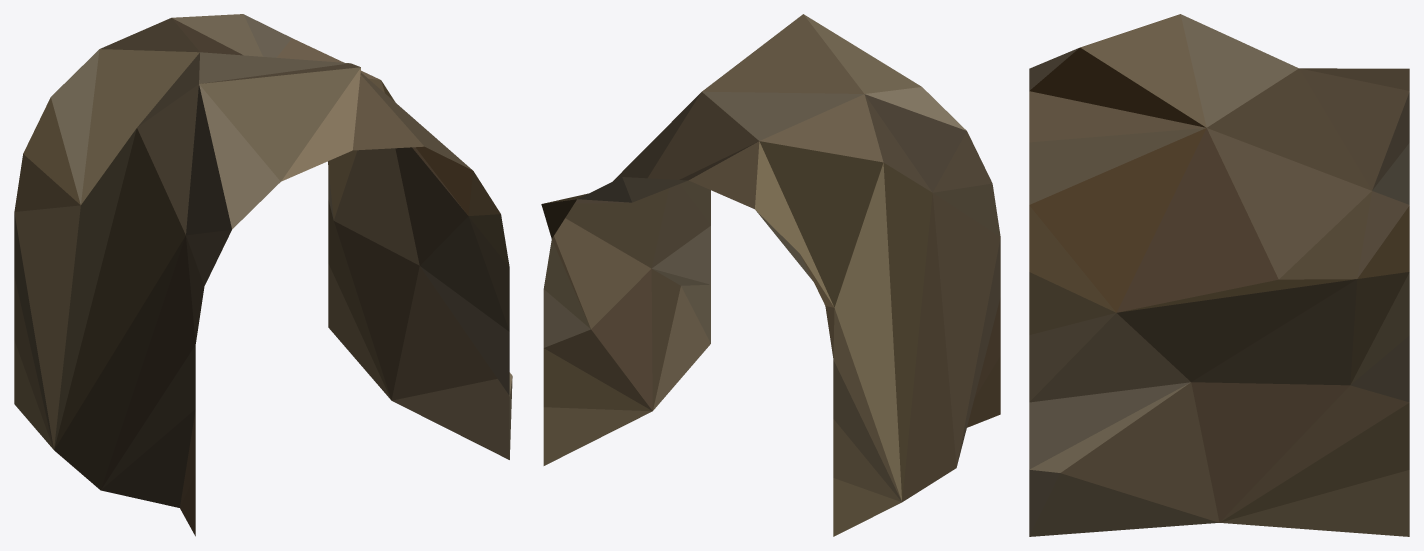
Rendered from Cave-Hall5mA.fbx.
3 renders of one model, left to right at view 1: azimuth 30°, elevation 25°; view 2: azimuth 150°, elevation 25°; view 3: azimuth 270°, elevation 25°, orthographic. The views are drawn at different scales.
Parts seen in each view (by area): view 1: Cave-Hall5mA; view 2: Cave-Hall5mA; view 3: Cave-Hall5mA.
Boxes of the visible parts, left/top/right/bottom form: Cave-Hall5mA: left=14, top=14, right=512, bottom=536; Cave-Hall5mA: left=541, top=14, right=1000, bottom=536; Cave-Hall5mA: left=1029, top=14, right=1409, bottom=536.
Bounding box in the file's own units: 582 × 617 × 500.
